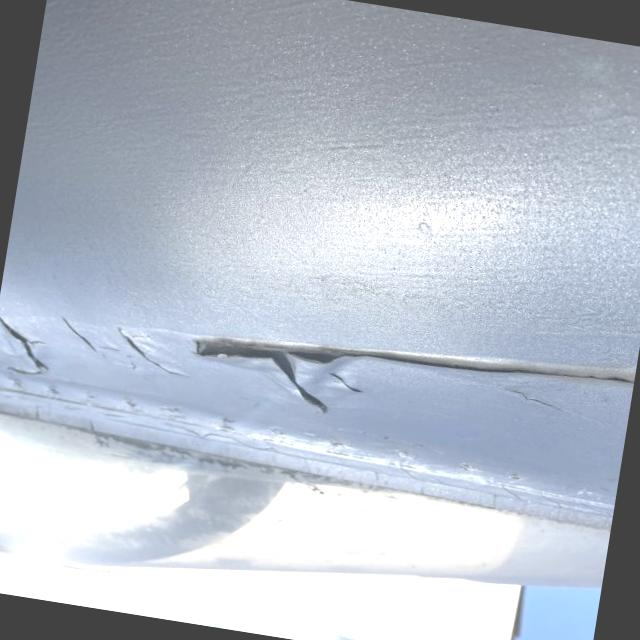crack: (64, 318, 187, 371), (508, 387, 574, 418), (316, 370, 378, 400)
